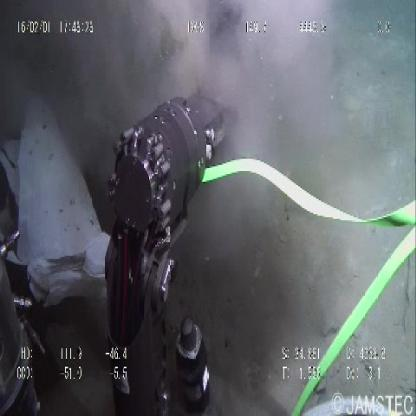Rov: (102, 80, 233, 408)
Rác: (1, 104, 112, 304)
